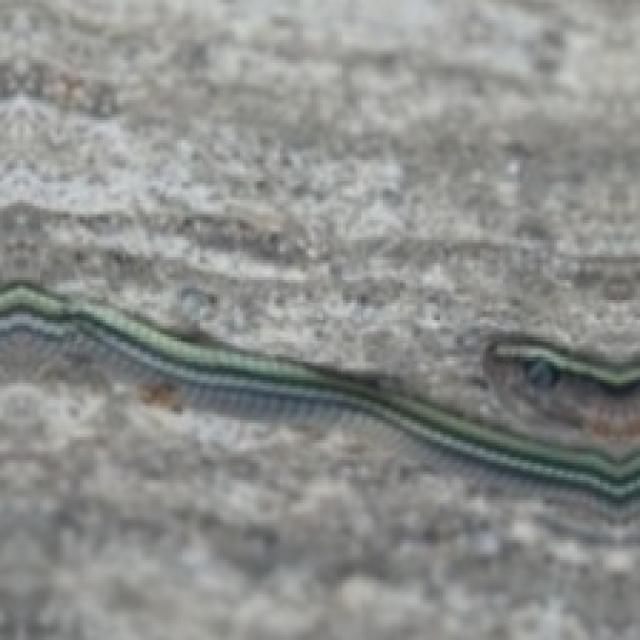philippine bronzeback treesnake: (0, 282, 640, 503), (484, 336, 640, 457)
